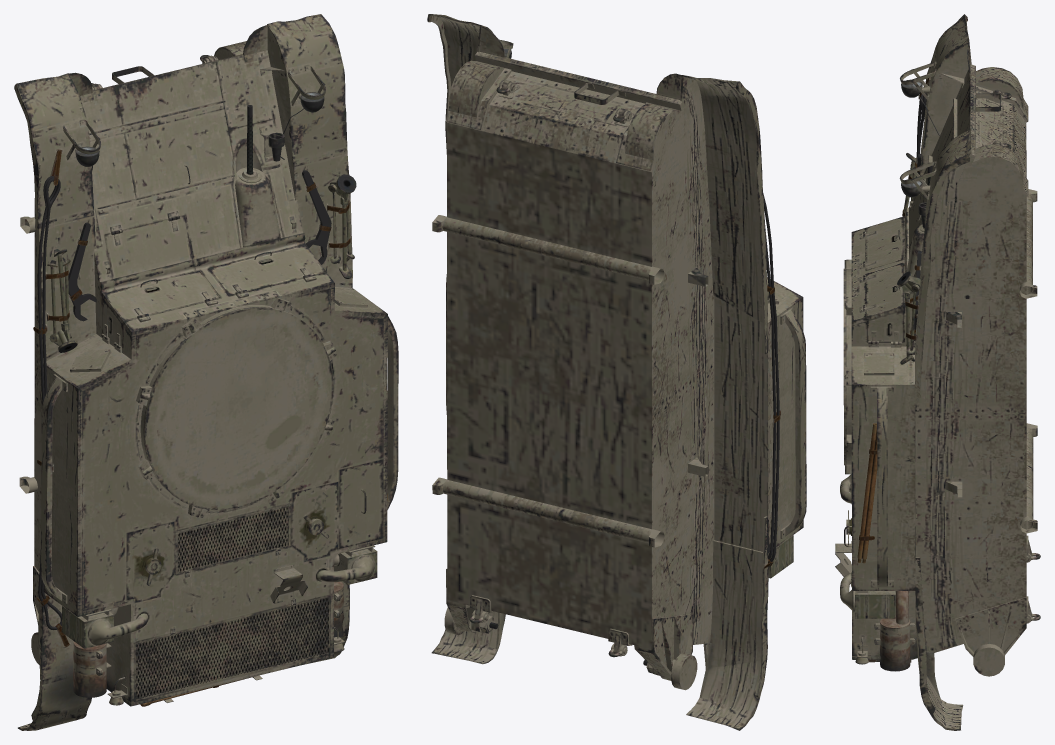
Rendered from Hull.glb.
3 renders of one model, left to right at view 1: azimuth 30°, elevation 25°; view 2: azimuth 150°, elevation 25°; view 3: azimuth 270°, elevation 25°, orthographic. The views are drawn at different scales.
Visible parts, largest first — view 1: set_0_group_0; view 2: set_0_group_0; view 3: set_0_group_0.
Part boxes in pixels (box(x1,y1,x2,y2)): set_0_group_0: box(14, 14, 398, 730); set_0_group_0: box(427, 14, 806, 730); set_0_group_0: box(835, 14, 1040, 730).
Bounding box in the file's own units: 2.53 × 4.42 × 1.42.
1 material, 1 textured.
